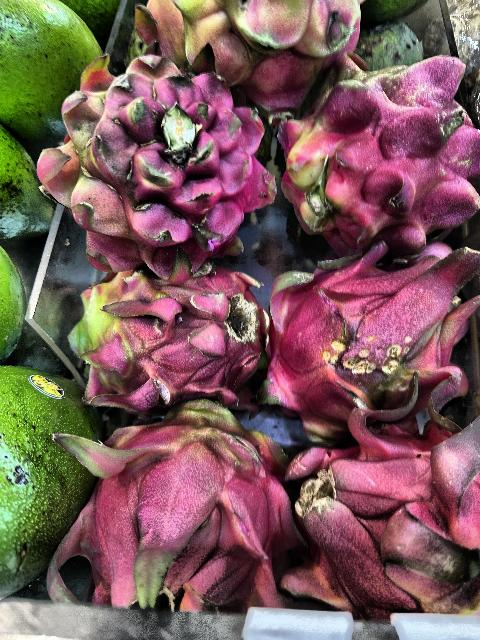buah-naga-belum-matang: (33, 55, 277, 263), (84, 398, 288, 604), (289, 34, 477, 245), (280, 422, 480, 616), (73, 262, 262, 401), (134, 0, 356, 101)
buah-naga-matang: (274, 251, 480, 437)
